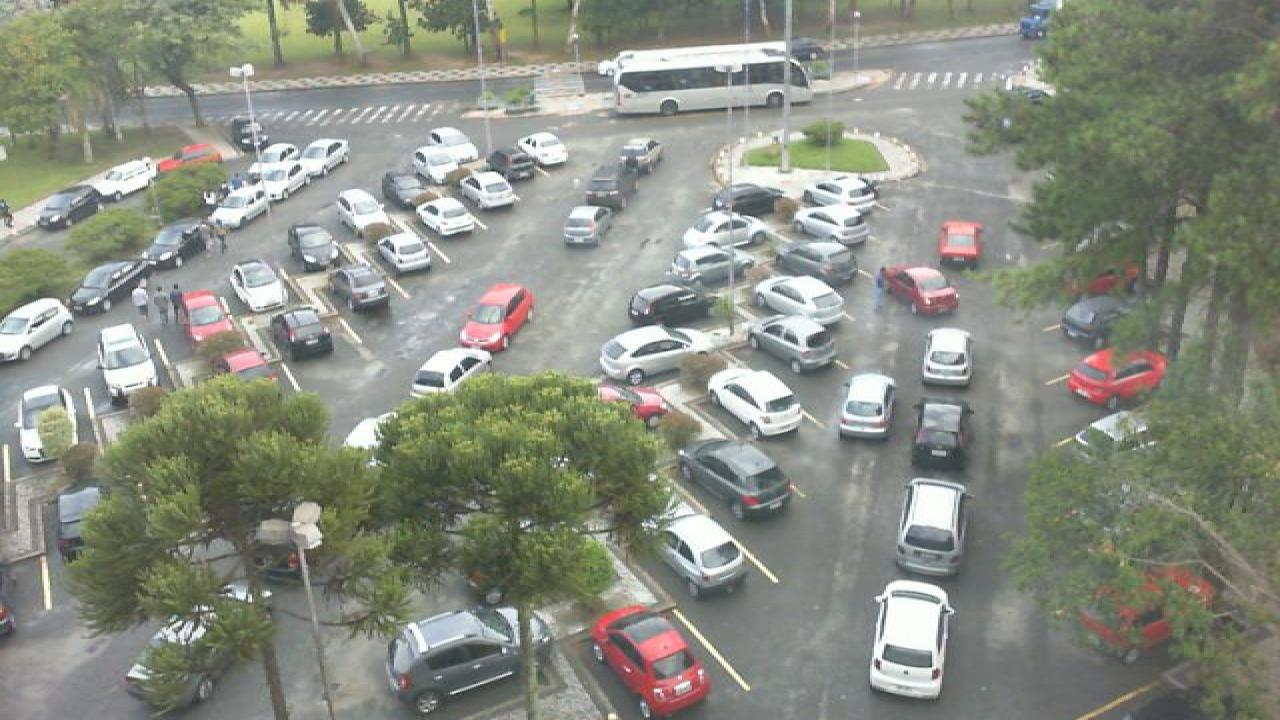Car: (586, 604, 712, 718), (384, 606, 526, 706), (124, 618, 252, 718), (866, 578, 954, 700), (676, 435, 796, 522), (652, 512, 750, 600), (894, 478, 972, 575), (704, 368, 808, 440), (598, 325, 714, 387), (1066, 346, 1166, 410), (460, 282, 536, 354), (746, 314, 838, 373), (752, 274, 848, 330), (14, 387, 82, 465), (0, 297, 78, 362), (96, 322, 160, 398), (834, 371, 898, 446), (910, 397, 972, 471), (880, 263, 964, 317), (68, 260, 148, 316), (626, 282, 712, 332), (408, 349, 494, 399), (678, 209, 766, 252), (1060, 292, 1132, 344), (778, 238, 858, 284), (670, 245, 752, 289), (920, 326, 978, 388), (176, 288, 238, 345), (798, 173, 882, 214), (268, 308, 334, 360), (140, 229, 208, 279), (224, 259, 286, 313), (796, 206, 872, 250), (328, 264, 394, 312), (416, 194, 484, 240), (410, 146, 482, 187), (94, 156, 160, 200), (372, 233, 436, 278), (206, 189, 274, 231), (34, 187, 98, 231), (712, 182, 784, 218), (334, 188, 390, 234), (936, 219, 984, 271), (460, 172, 522, 212), (292, 224, 342, 272), (240, 169, 300, 208), (514, 130, 572, 170), (380, 170, 434, 211), (560, 204, 606, 250), (274, 156, 324, 196), (618, 138, 666, 174), (300, 140, 352, 172)
